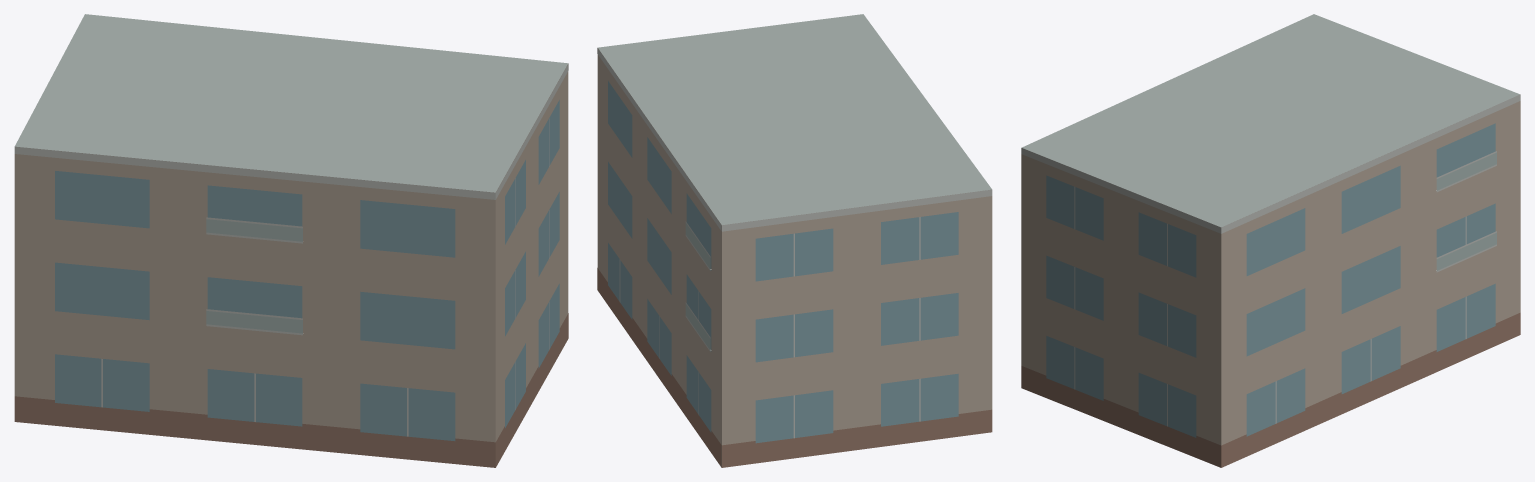
File: survey-upis-33033741.glb
The picture shows the model from 3 angles, left to right: view 1: azimuth 30°, elevation 25°; view 2: azimuth 150°, elevation 25°; view 3: azimuth 270°, elevation 25°; orthographic projection. The views are drawn at different scales.
Visible parts, largest first — view 1: survey-upis-33033741.tmp; view 2: survey-upis-33033741.tmp; view 3: survey-upis-33033741.tmp.
Part boxes in pixels (x1,y1,x2,y2): survey-upis-33033741.tmp: (14,14,568,467); survey-upis-33033741.tmp: (597,14,992,467); survey-upis-33033741.tmp: (1021,14,1520,467).
Size of the model in its own units: 17.43 by 9.15 by 17.22.
